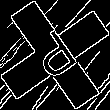P_SE: (25, 24, 85, 86)
